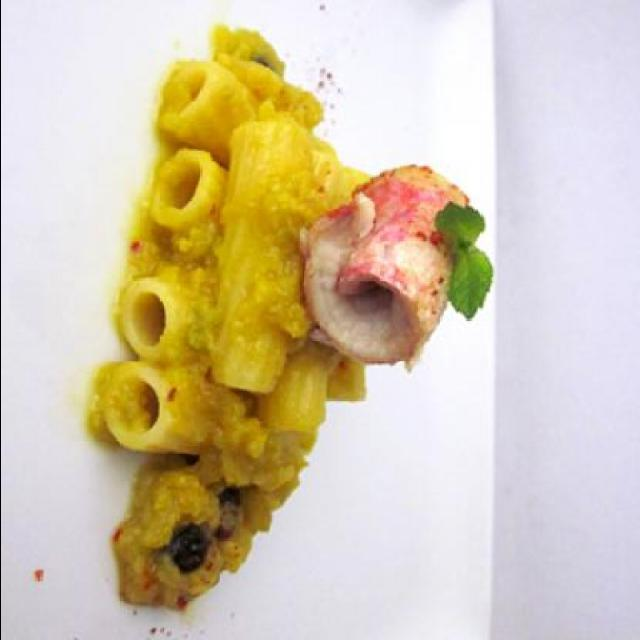Pasta al ragu: (31, 71, 527, 638)
